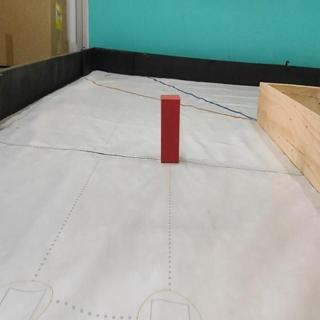redbox: (159, 93, 181, 162)
